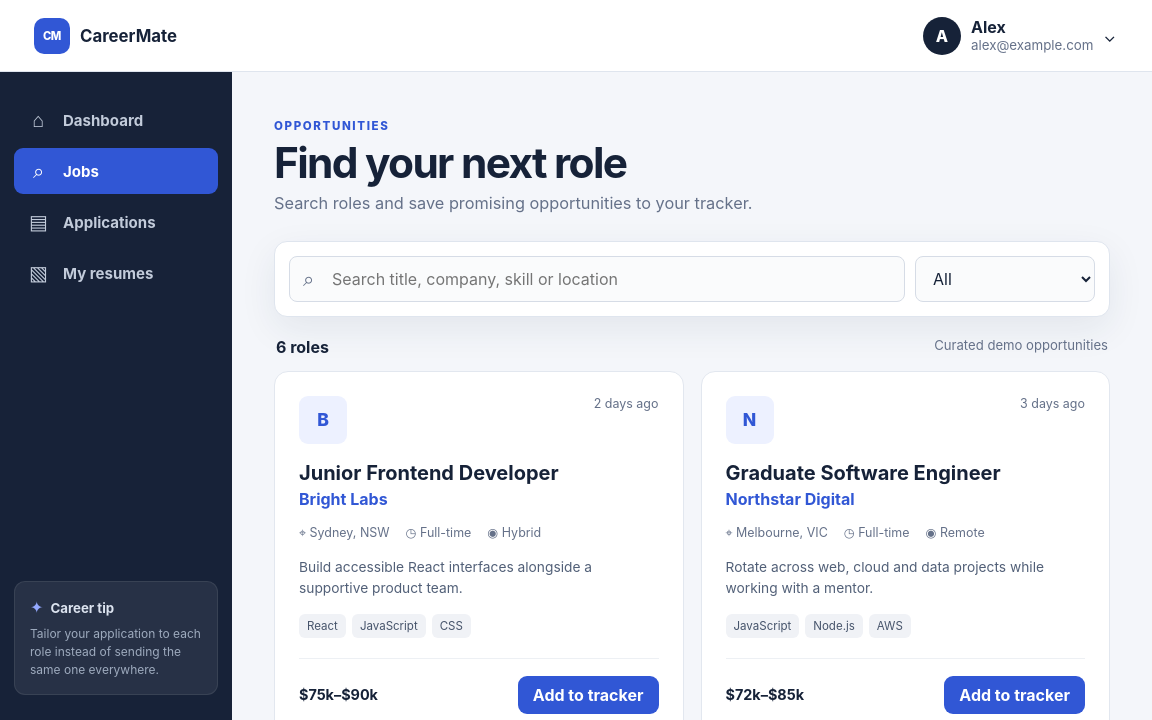
Test: adds a job to the signed-in user's application tracker
Click the button "Add to tracker" next to "$75k–$90k" at [588, 694], box [518,676,658,714]
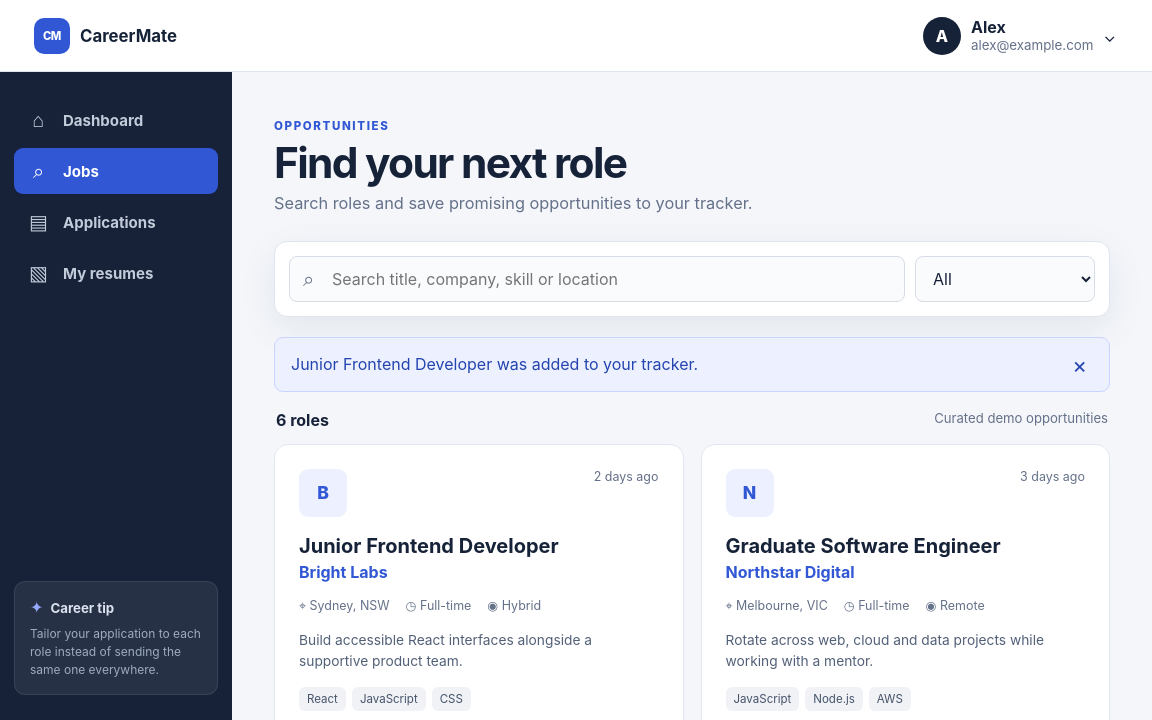
Expected: the text "Junior Frontend Developer was added to your tracker. ×" is shown, [274,336,1110,392]
Click the link "▤ Applications" at [92, 222], box [29,210,156,234]
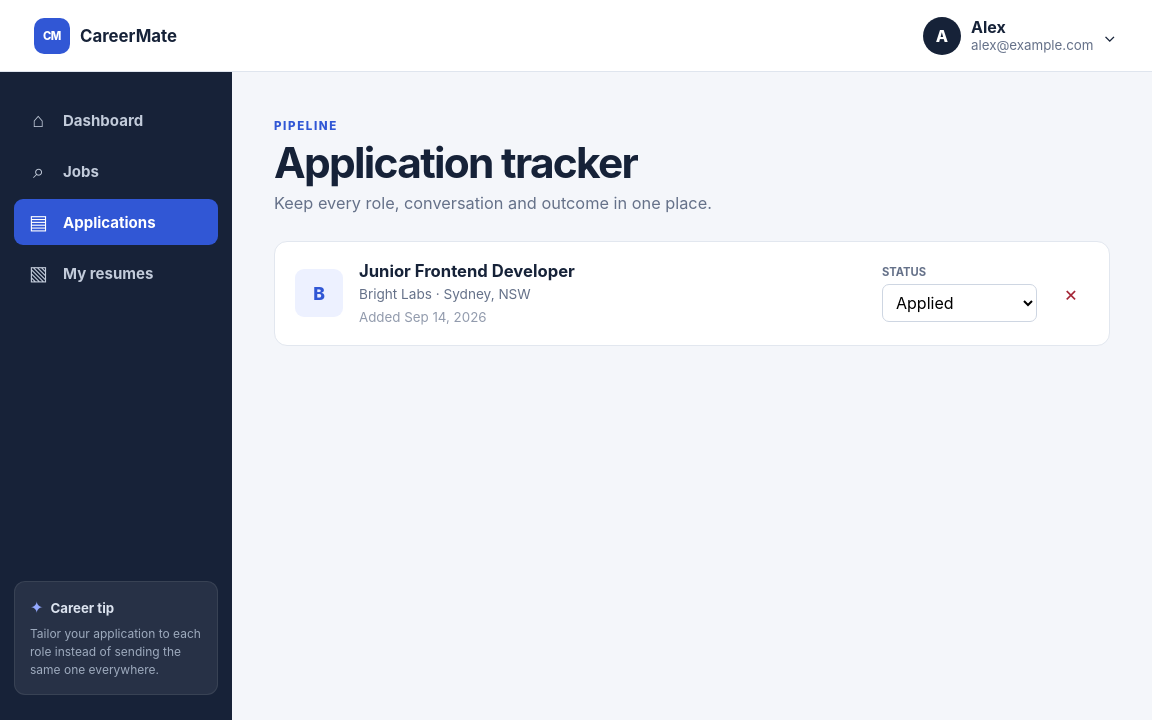
Select "Interview" in the dropdown labelled "Status" at [960, 302], box [882,284,1037,322]
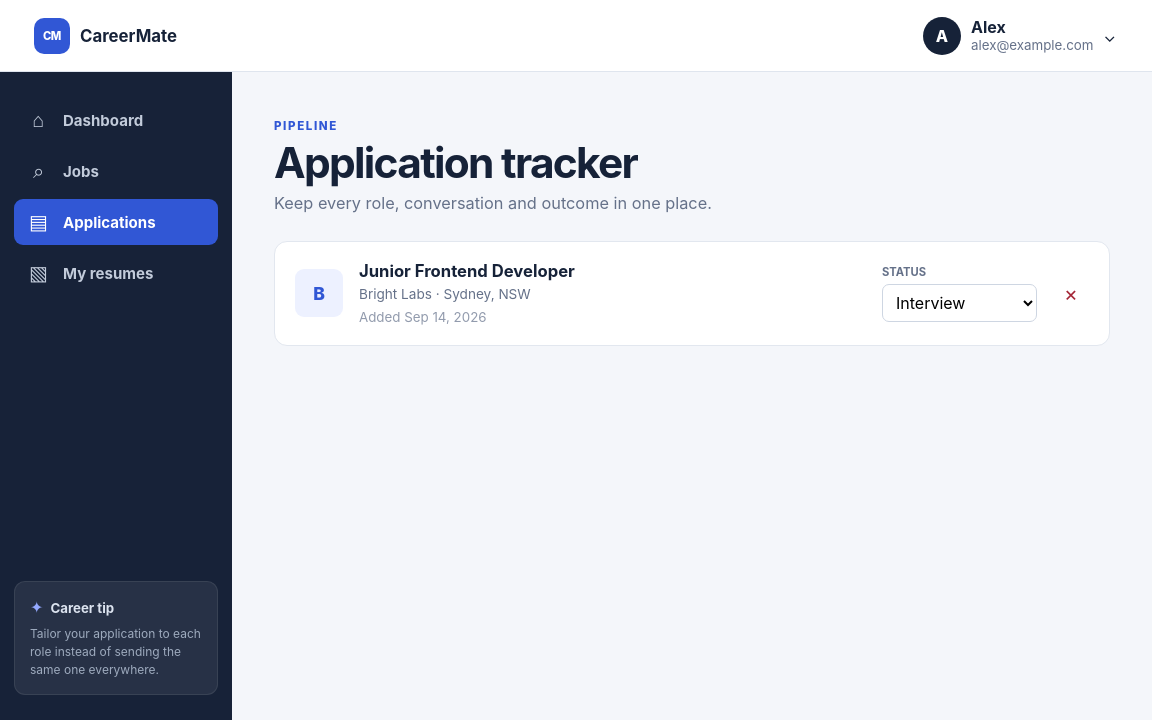
Click the button named "remove" at [1071, 293], box [1053,275,1089,311]
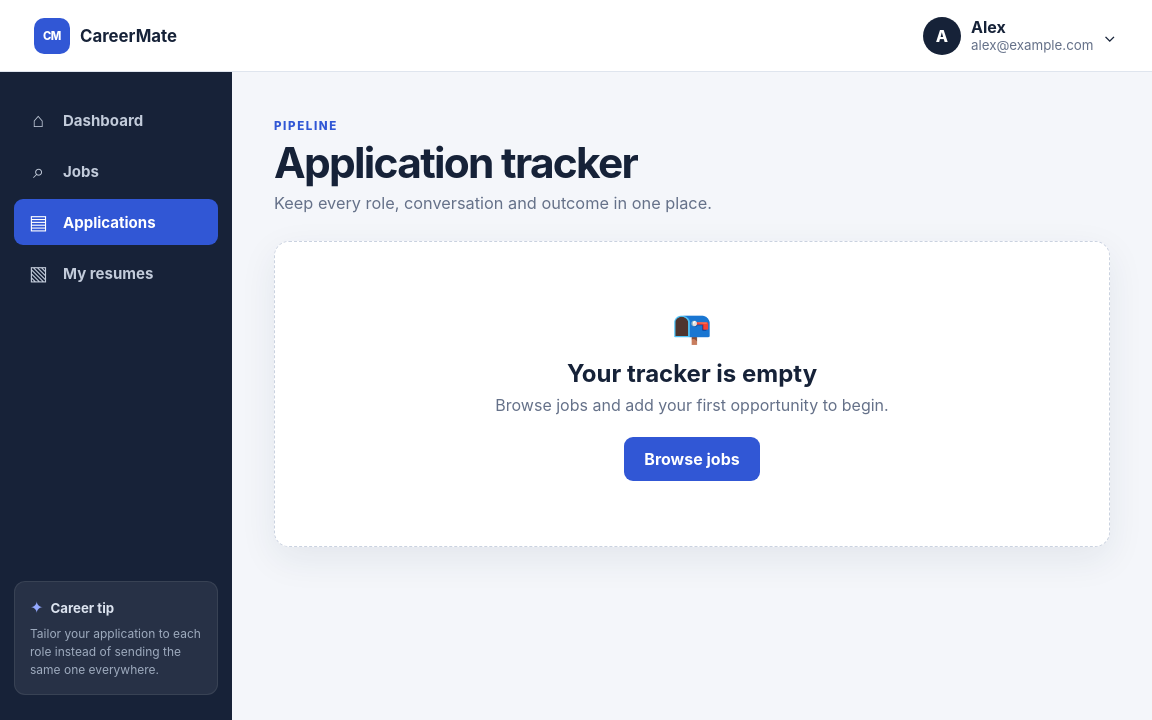
Expected: the heading "Your tracker is empty" is shown, [567,358,817,388]
